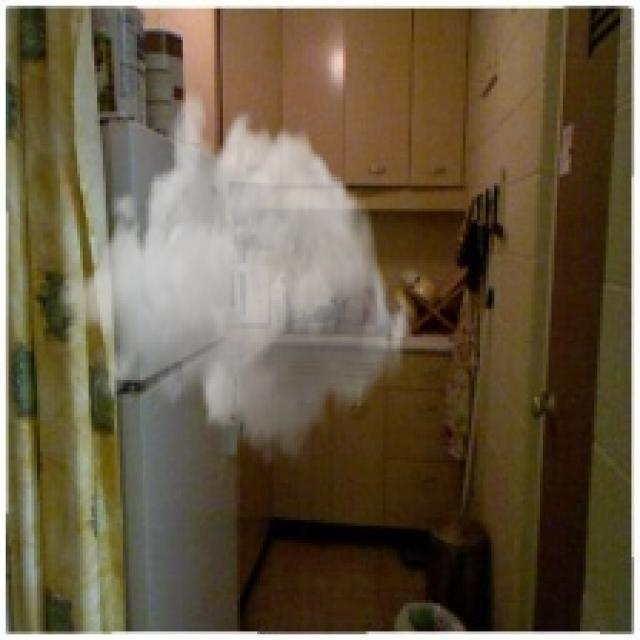Smoke: (54, 82, 414, 472)
